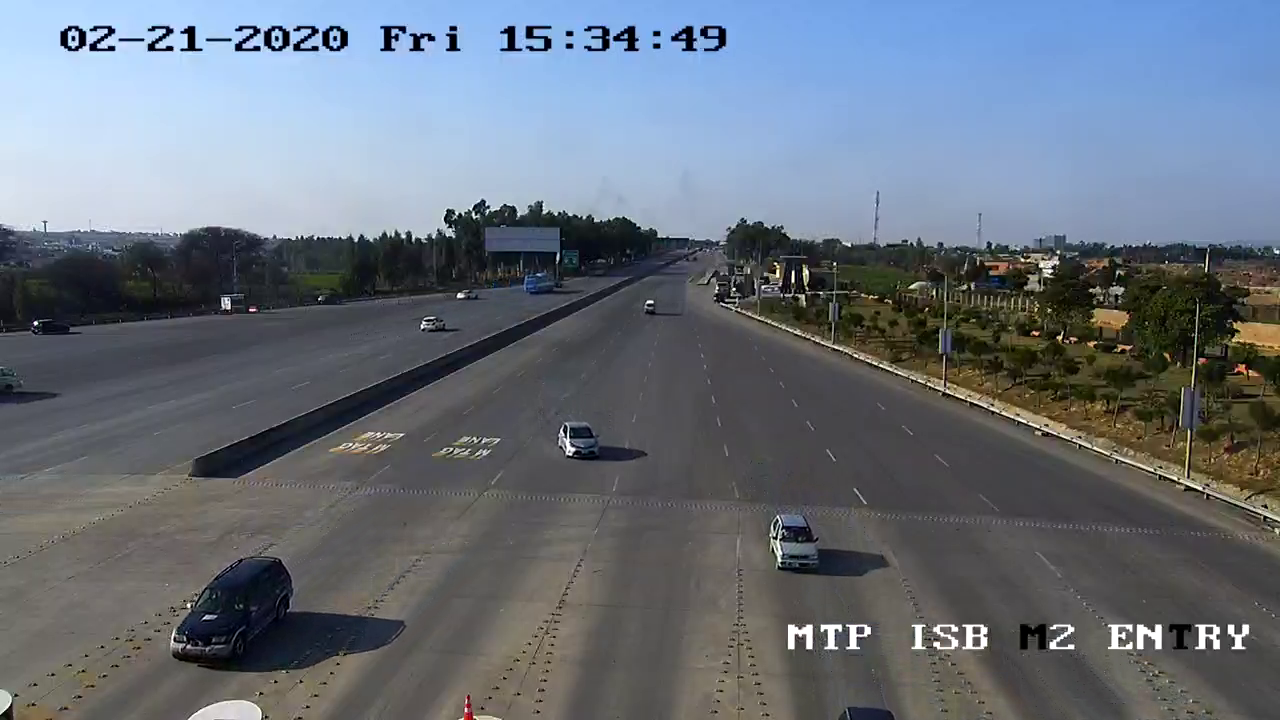f1: (163, 551, 295, 666), (762, 502, 827, 580), (552, 411, 608, 469)
